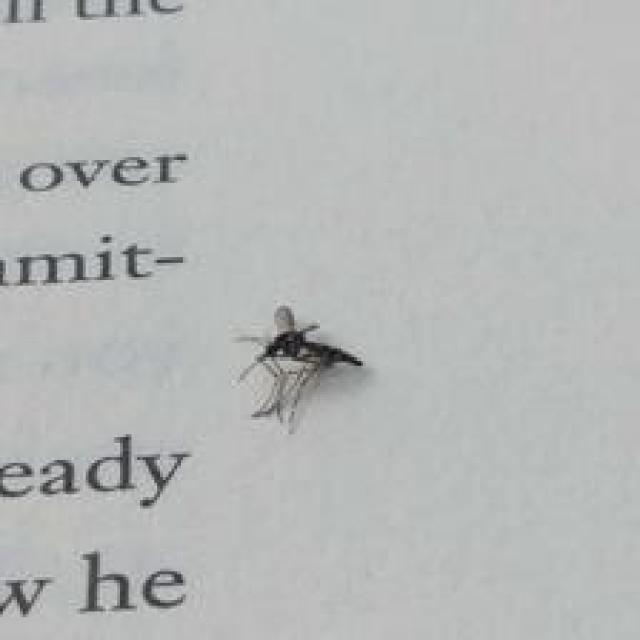Aedes albopictus: (233, 303, 364, 434)
